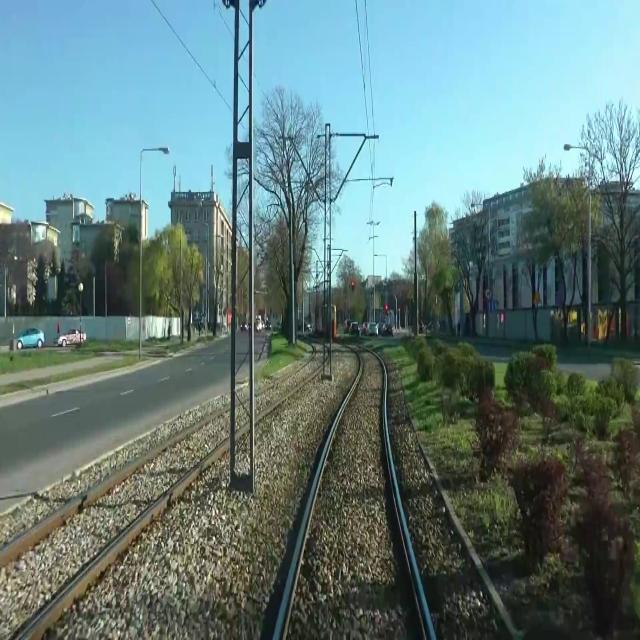rail-track: (0, 408, 230, 639), (273, 347, 431, 639), (254, 343, 323, 411)
